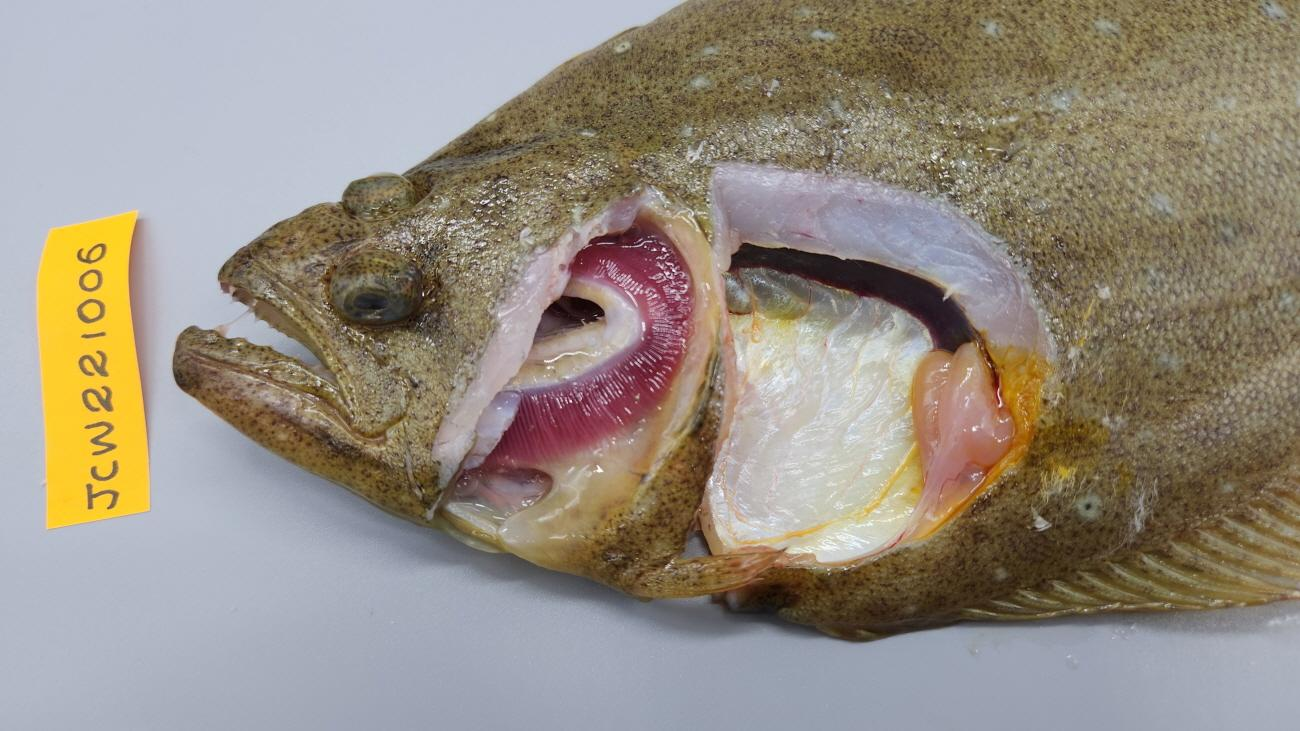POASN: (704, 266, 934, 562)
